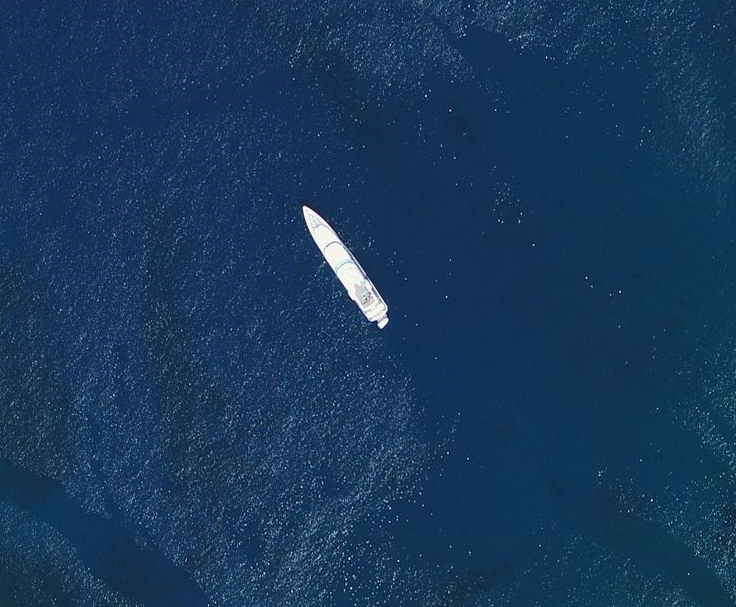ship: (290, 200, 398, 332)
